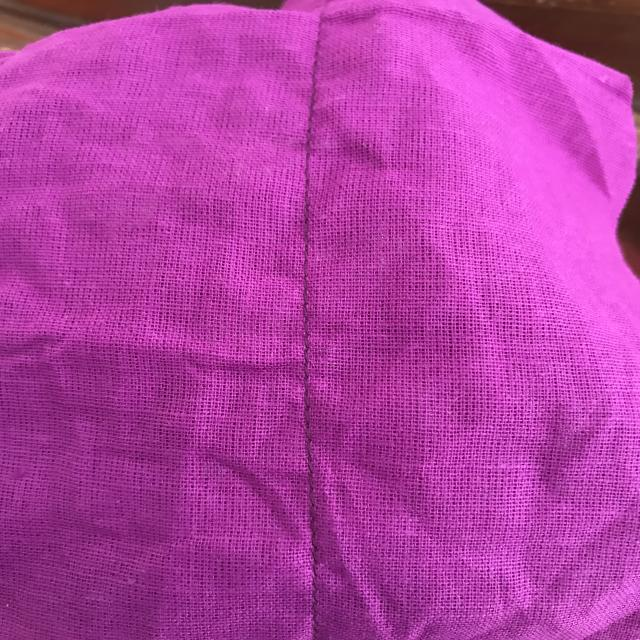good: (293, 475, 334, 572), (286, 294, 320, 370)
